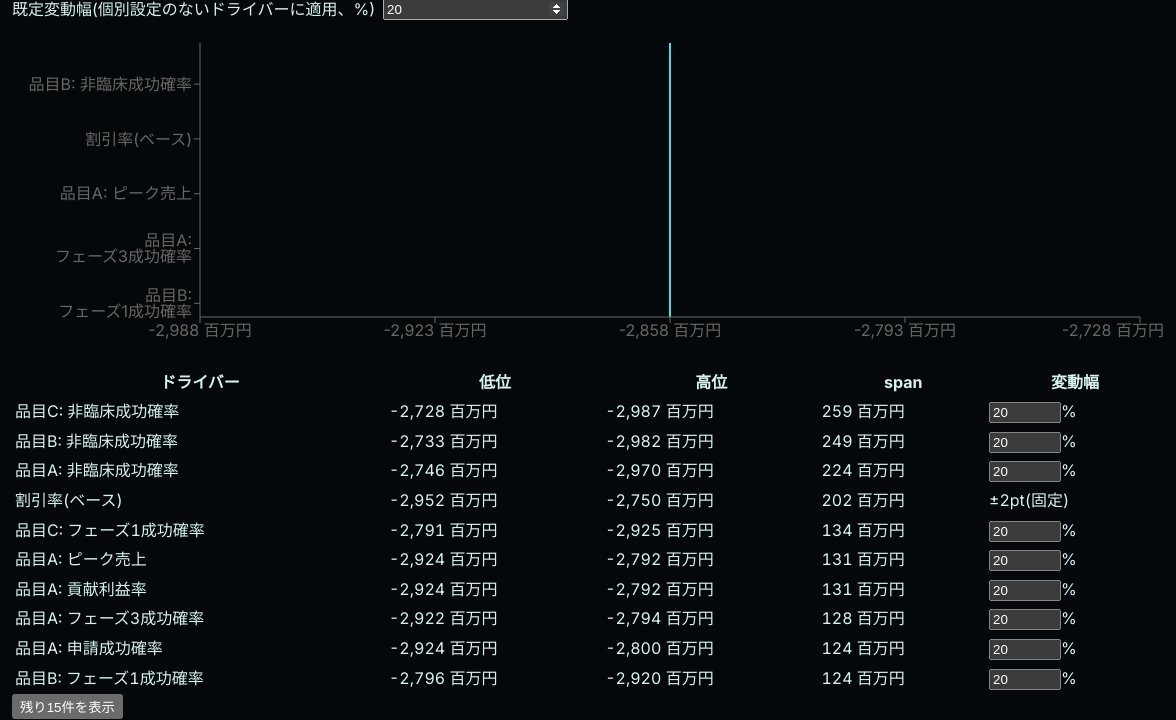
Scenario: SensitivitySection: 上位N制限とトグル(§3.3) › span降順の上位10件のみ表示し、トグルで残りを展開する
The image size is (1176, 720).
(page scrolled)
Click the button "残り15件を表示": (67, 707) [12,694,123,719]
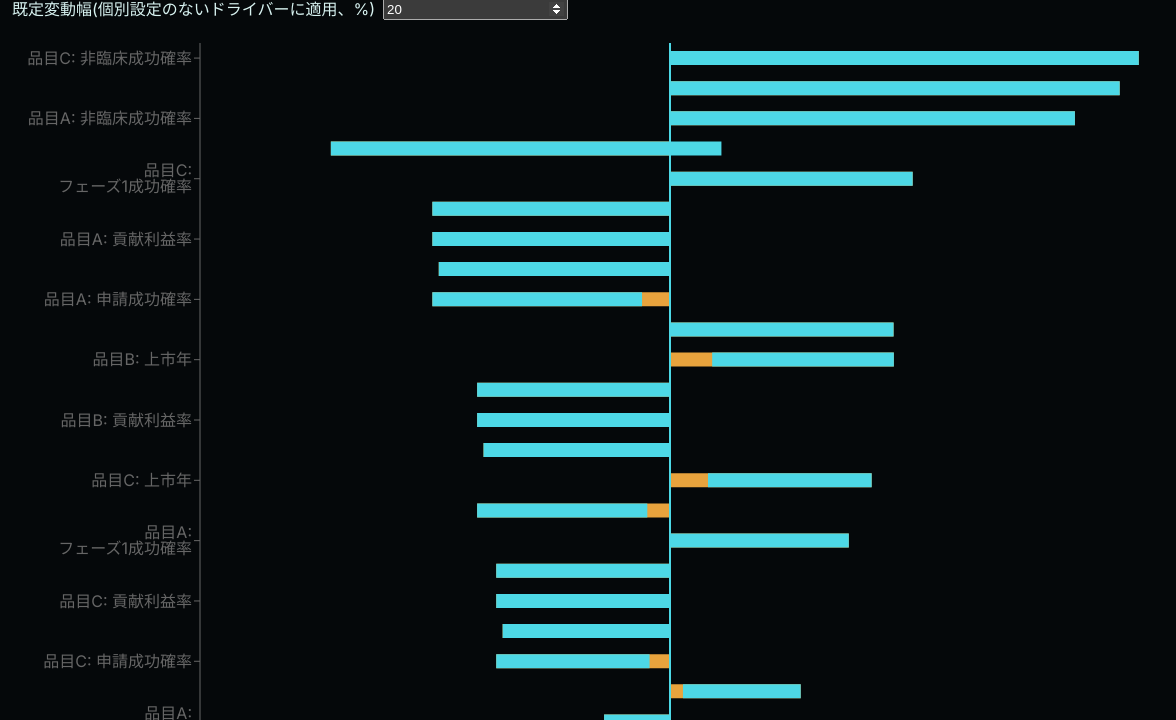
Check: the button "残り15件を表示" is gone
